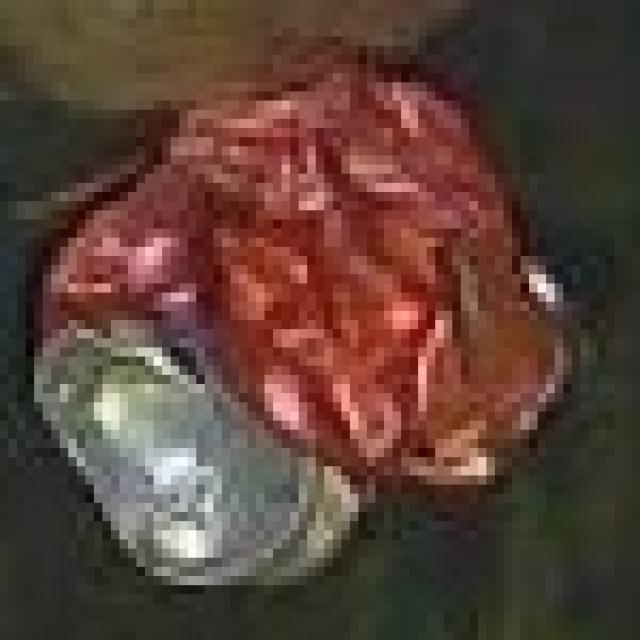can: (26, 28, 632, 615)
